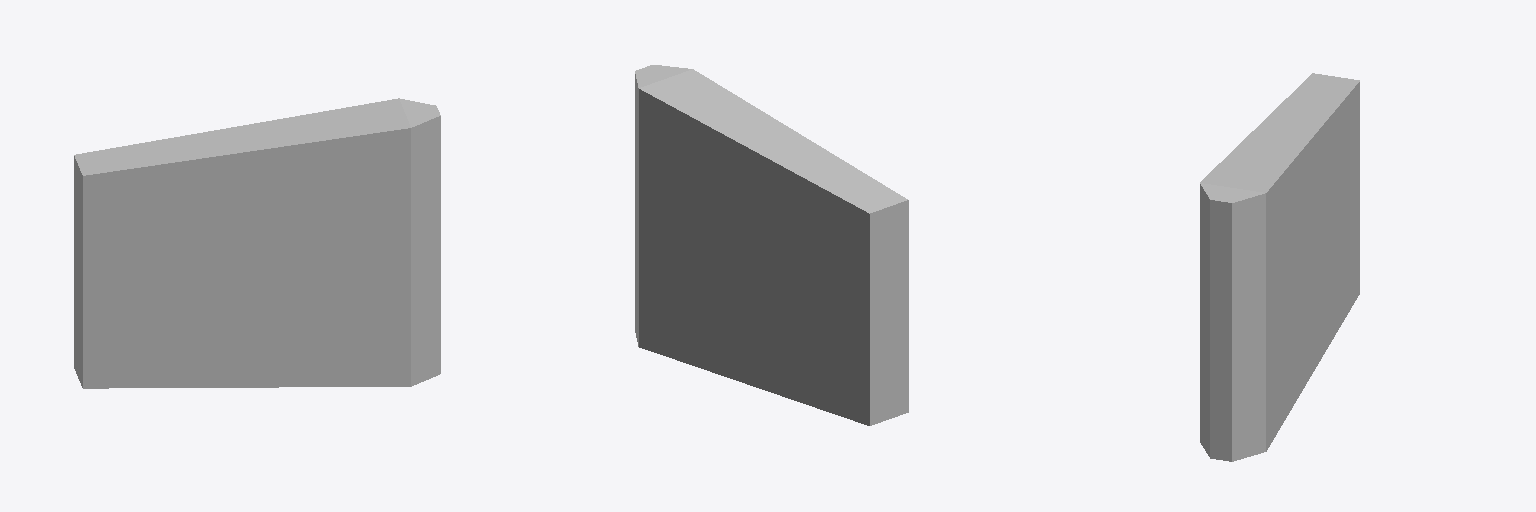
Rendered from lPaddle.obj.
3 views of the same model, side by side, from view 1: azimuth 30°, elevation 25°; view 2: azimuth 150°, elevation 25°; view 3: azimuth 270°, elevation 25° (orthographic).
Parts seen in each view (by area): view 1: Cube_Cube.000; view 2: Cube_Cube.000; view 3: Cube_Cube.000.
Part boxes in pixels (left/top/right/bottom): Cube_Cube.000: left=74, top=98, right=440, bottom=388; Cube_Cube.000: left=635, top=65, right=908, bottom=425; Cube_Cube.000: left=1200, top=73, right=1359, bottom=461.
Size of the model in its own units: 2.54 by 2 by 1.13.